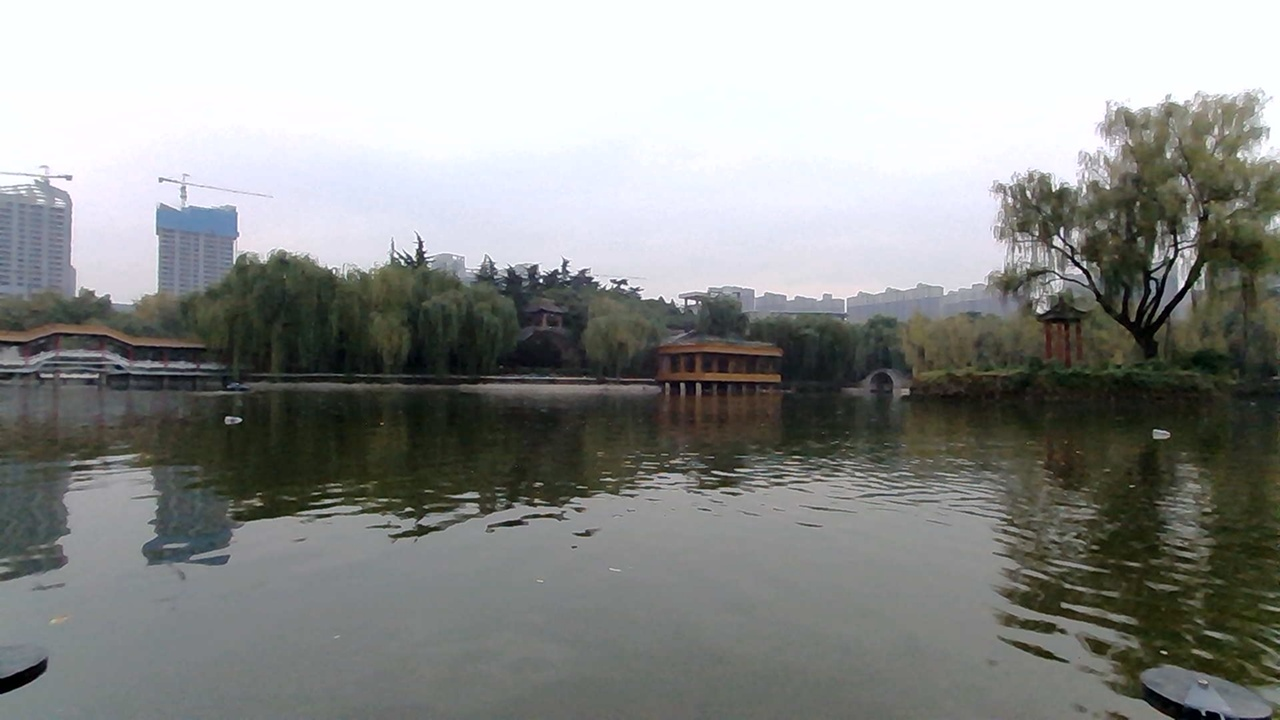bottle: (1136, 416, 1182, 450), (210, 407, 255, 431)
